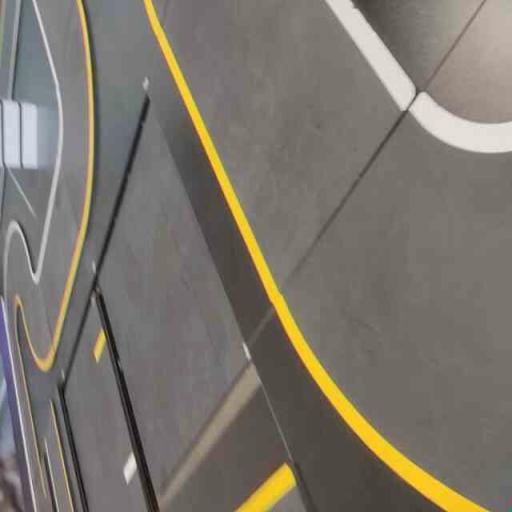right: (275, 92, 512, 510)
